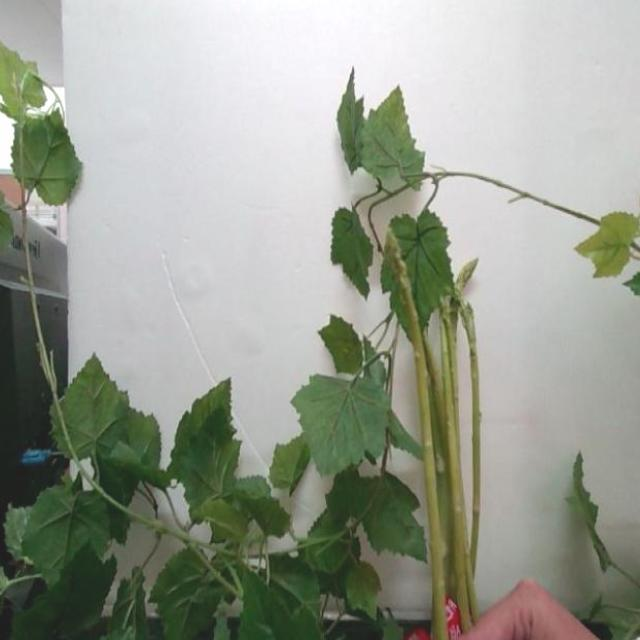aspargus: (385, 225, 448, 640)
